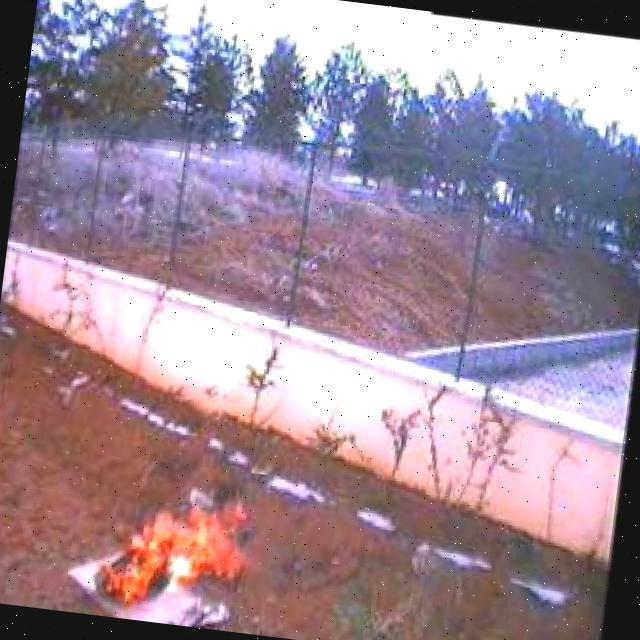Fire: (91, 485, 251, 618)
